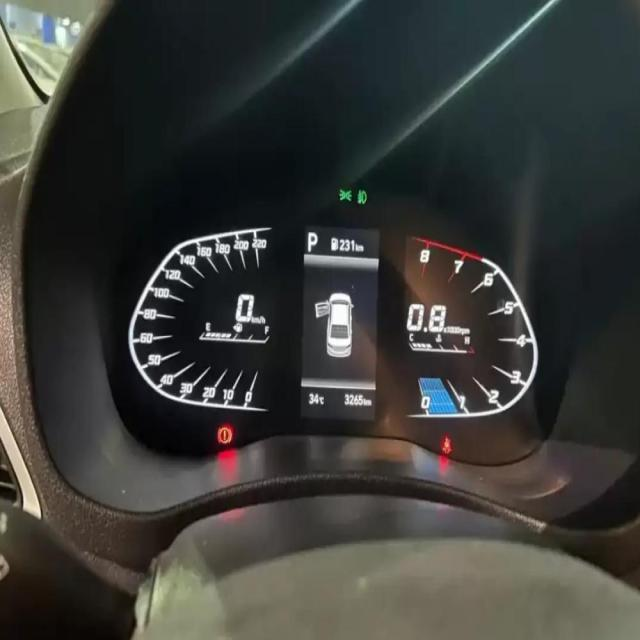Seat Belt: (441, 436, 453, 454)
